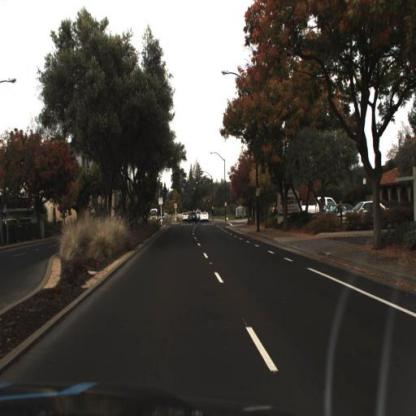car: (333, 195, 396, 227), (297, 191, 331, 218), (352, 198, 390, 218), (327, 199, 351, 222), (199, 211, 208, 222), (188, 213, 197, 222), (182, 211, 188, 220)
